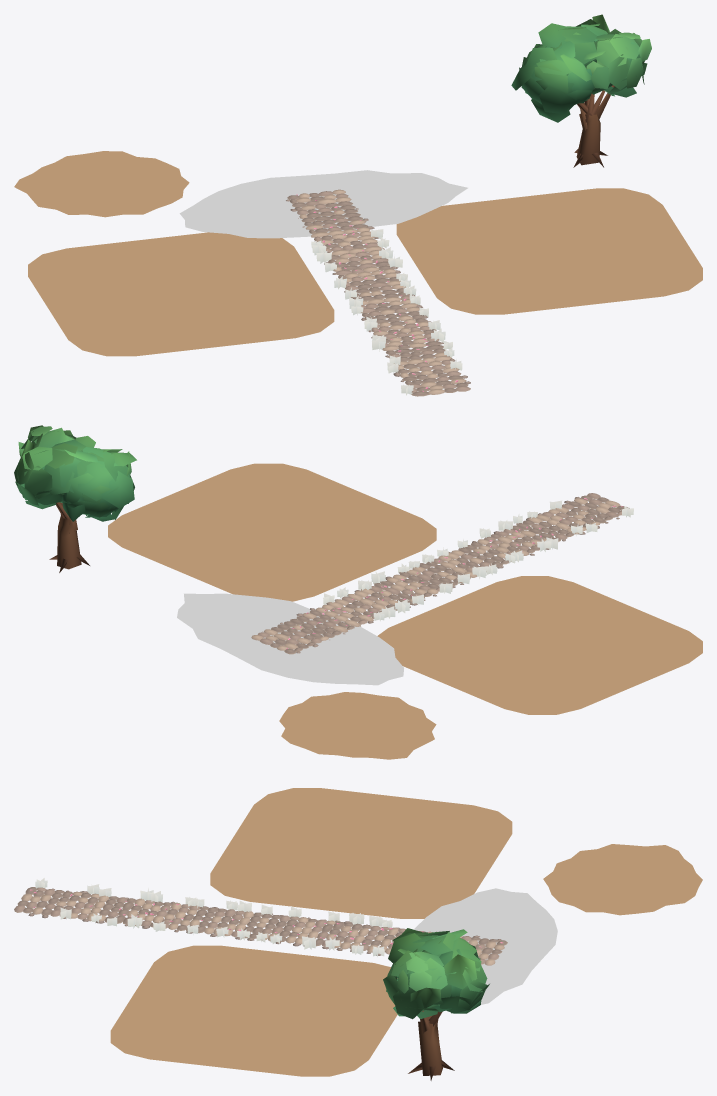
Rendered from zon_farm_lite_raw.glb.
3 renders of one model, top to bottom at view 1: azimuth 30°, elevation 25°; view 2: azimuth 150°, elevation 25°; view 3: azimuth 270°, elevation 25°, orthographic. The views are drawn at different scales.
Visible parts, largest first — view 1: SM_zon_farm_lite_farm_pen_x0_zm1_raw, SM_zon_farm_lite_paths_stone_vc_x0_zm1_raw, SM_zon_farm_lite_ground_earth_x0_zm1_raw, SM_zon_farm_lite_veg_leaf_clip_x0_zm1_raw, SM_zon_farm_lite_veg_grass_clip_x0_zm1_raw; view 2: SM_zon_farm_lite_farm_pen_x0_zm1_raw, SM_zon_farm_lite_paths_stone_vc_x0_zm1_raw, SM_zon_farm_lite_ground_earth_x0_zm1_raw, SM_zon_farm_lite_veg_leaf_clip_x0_zm1_raw, SM_zon_farm_lite_veg_grass_clip_x0_zm1_raw; view 3: SM_zon_farm_lite_farm_pen_x0_zm1_raw, SM_zon_farm_lite_paths_stone_vc_x0_zm1_raw, SM_zon_farm_lite_veg_leaf_clip_x0_zm1_raw, SM_zon_farm_lite_ground_earth_x0_zm1_raw, SM_zon_farm_lite_veg_grass_clip_x0_zm1_raw.
Part boxes in pixels (x1,y1,x2,y2): SM_zon_farm_lite_farm_pen_x0_zm1_raw: (14, 151, 702, 356); SM_zon_farm_lite_paths_stone_vc_x0_zm1_raw: (286, 189, 470, 396); SM_zon_farm_lite_ground_earth_x0_zm1_raw: (179, 170, 467, 238); SM_zon_farm_lite_veg_leaf_clip_x0_zm1_raw: (511, 14, 651, 167); SM_zon_farm_lite_veg_grass_clip_x0_zm1_raw: (311, 229, 462, 395); SM_zon_farm_lite_farm_pen_x0_zm1_raw: (108, 463, 702, 759); SM_zon_farm_lite_paths_stone_vc_x0_zm1_raw: (251, 493, 629, 654); SM_zon_farm_lite_ground_earth_x0_zm1_raw: (177, 593, 403, 685); SM_zon_farm_lite_veg_leaf_clip_x0_zm1_raw: (14, 425, 136, 572); SM_zon_farm_lite_veg_grass_clip_x0_zm1_raw: (323, 500, 633, 621); SM_zon_farm_lite_farm_pen_x0_zm1_raw: (110, 788, 702, 1076); SM_zon_farm_lite_paths_stone_vc_x0_zm1_raw: (14, 887, 507, 965); SM_zon_farm_lite_veg_leaf_clip_x0_zm1_raw: (383, 928, 489, 1080); SM_zon_farm_lite_ground_earth_x0_zm1_raw: (414, 888, 557, 1004); SM_zon_farm_lite_veg_grass_clip_x0_zm1_raw: (35, 878, 392, 956).
Size of the model in its own units: 26.59 by 5.28 by 24.98.
